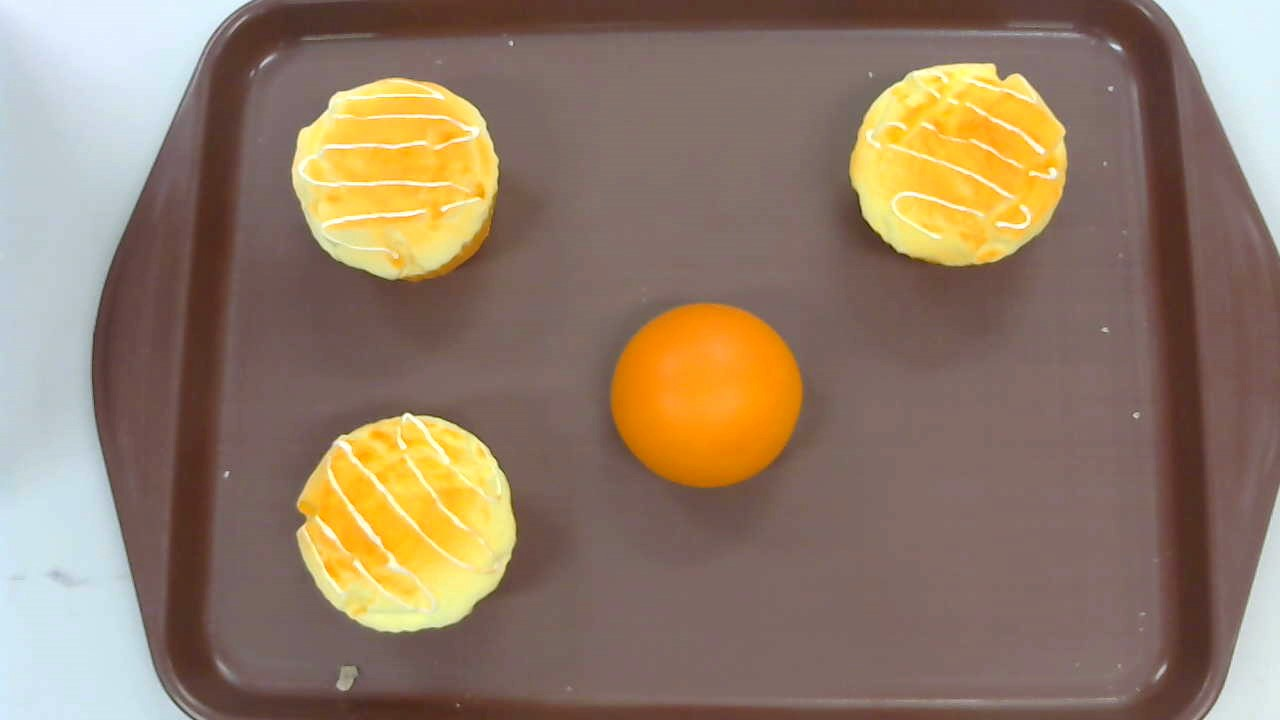bun: (611, 302, 803, 488)
cupcake: (295, 412, 520, 635), (847, 62, 1068, 268), (292, 75, 498, 283)
